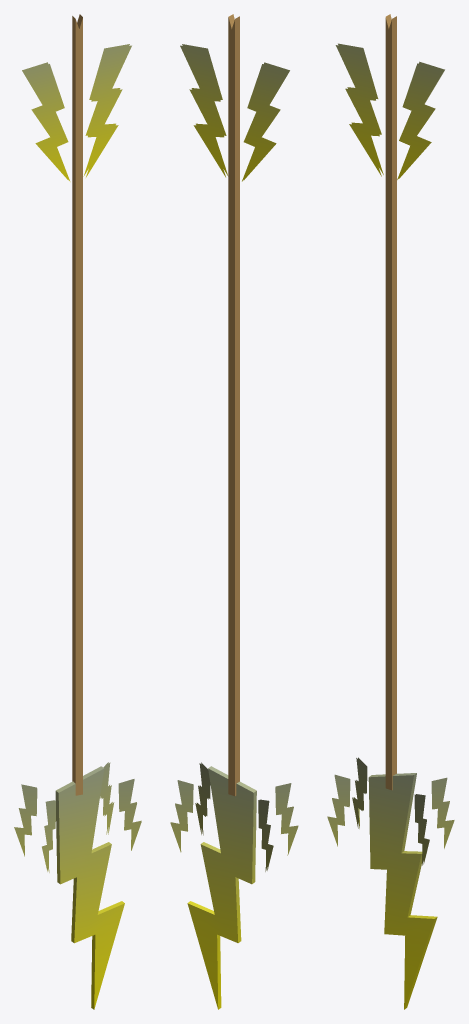
Rendered from Arrow_11.fbx.
3 renders of one model, left to right at view 1: azimuth 30°, elevation 25°; view 2: azimuth 150°, elevation 25°; view 3: azimuth 330°, elevation 25°, orthographic.
Parts seen in each view (by area): view 1: Comp_Arrow_11; view 2: Comp_Arrow_11; view 3: Comp_Arrow_11.
Part boxes in pixels (left/top/right/bottom): Comp_Arrow_11: left=14, top=14, right=141, bottom=1009; Comp_Arrow_11: left=170, top=14, right=298, bottom=1009; Comp_Arrow_11: left=327, top=14, right=454, bottom=1009.
Bounding box in the file's own units: 23.06 × 202 × 10.83.
